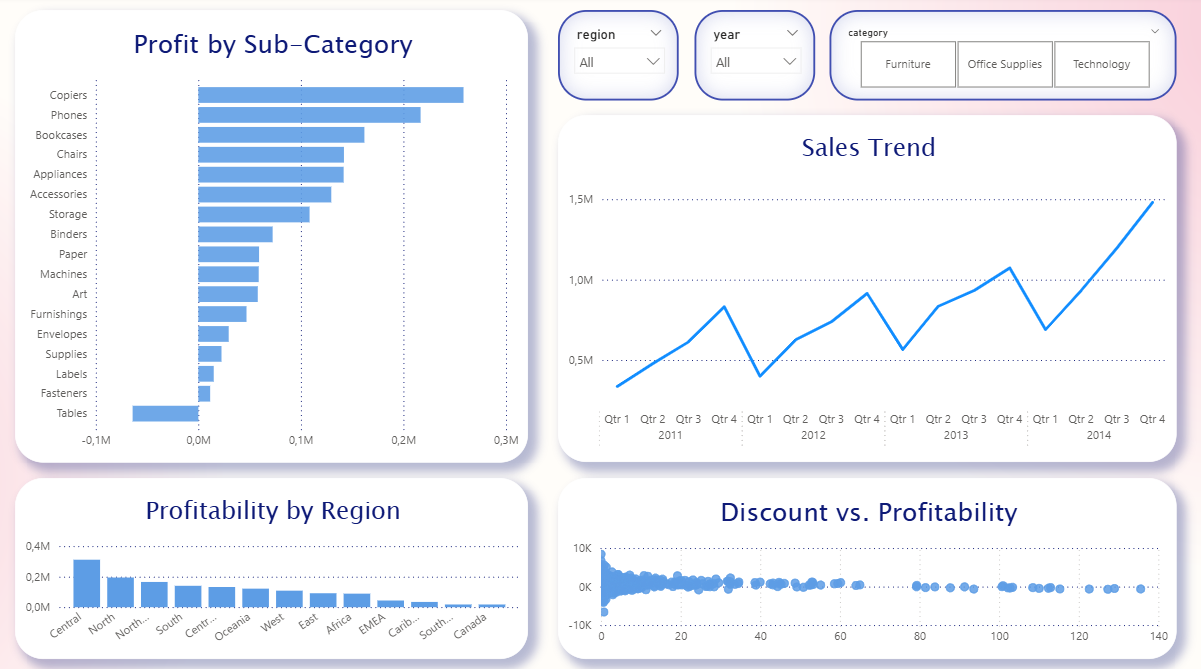

The page's visual inventory and layout, read from the dashboard file:
{"tool":"powerbi","page":{"name":"Page 2","canvas":[1280,720],"ordinal":1},"visuals":[{"type":"barChart","title":"Profit by Sub-Category","fields":{"Category":["Sheet1.sub_category"],"Y":["Sheet1.Total Profit"]},"box":[16,16,544,480],"z":0},{"type":"lineChart","title":"Sales Trend","fields":{"Y":["Sum(Sheet1.sales)"],"Category":["Sheet1.order_month.Variation.Date Hierarchy.Year","Sheet1.order_month.Variation.Date Hierarchy.Quarter"]},"box":[592,128,656,368],"z":1000},{"type":"scatterChart","title":"Discount vs. Profitability","fields":{"X":["Sum(Sheet1.discount)"],"Y":["Sum(Sheet1.profit)"],"Category":["Sheet1.sales"]},"box":[592,512,656,192],"z":2000},{"type":"clusteredColumnChart","title":"Profitability by Region","fields":{"Category":["Sheet1.region"],"Y":["Sum(Sheet1.profit)"]},"box":[16,512,544,192],"z":3000},{"type":"slicer","fields":{"Values":["Sheet1.region"]},"box":[592,16,128,96],"z":4000},{"type":"slicer","fields":{"Values":["Sheet1.year"]},"box":[736,16,128,96],"z":5000},{"type":"slicer","fields":{"Values":["Sheet1.category"]},"box":[880,16,368,96],"z":6000}]}

Visuals, with their boxes in screenshot pixels (x1, y1, x2, y2), scaled from the page's 1280x720 canvas onto the 1201x669 screenshot:
"Profit by Sub-Category" barChart: (left=15, top=15, right=525, bottom=461)
"Sales Trend" lineChart: (left=555, top=119, right=1171, bottom=461)
"Discount vs. Profitability" scatterChart: (left=555, top=476, right=1171, bottom=654)
"Profitability by Region" clusteredColumnChart: (left=15, top=476, right=525, bottom=654)
slicer - Sheet1.region: (left=555, top=15, right=676, bottom=104)
slicer - Sheet1.year: (left=691, top=15, right=811, bottom=104)
slicer - Sheet1.category: (left=826, top=15, right=1171, bottom=104)
